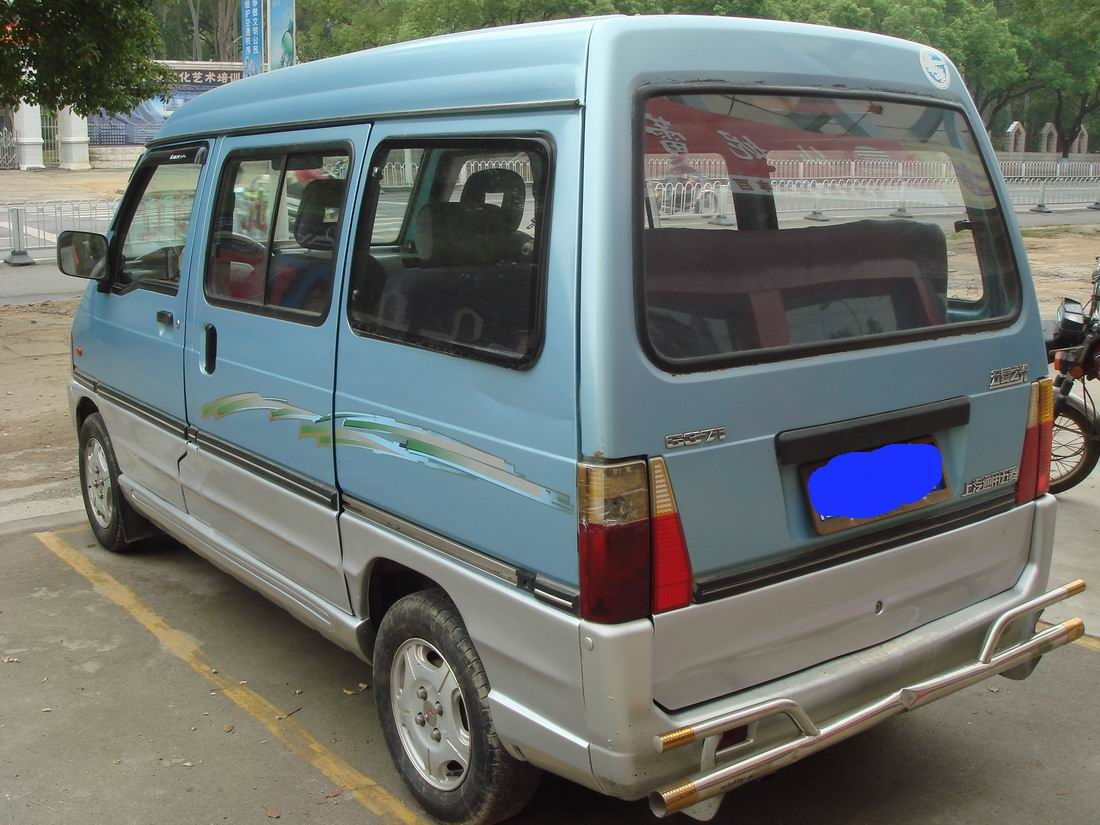minibus: (77, 31, 1086, 811)
